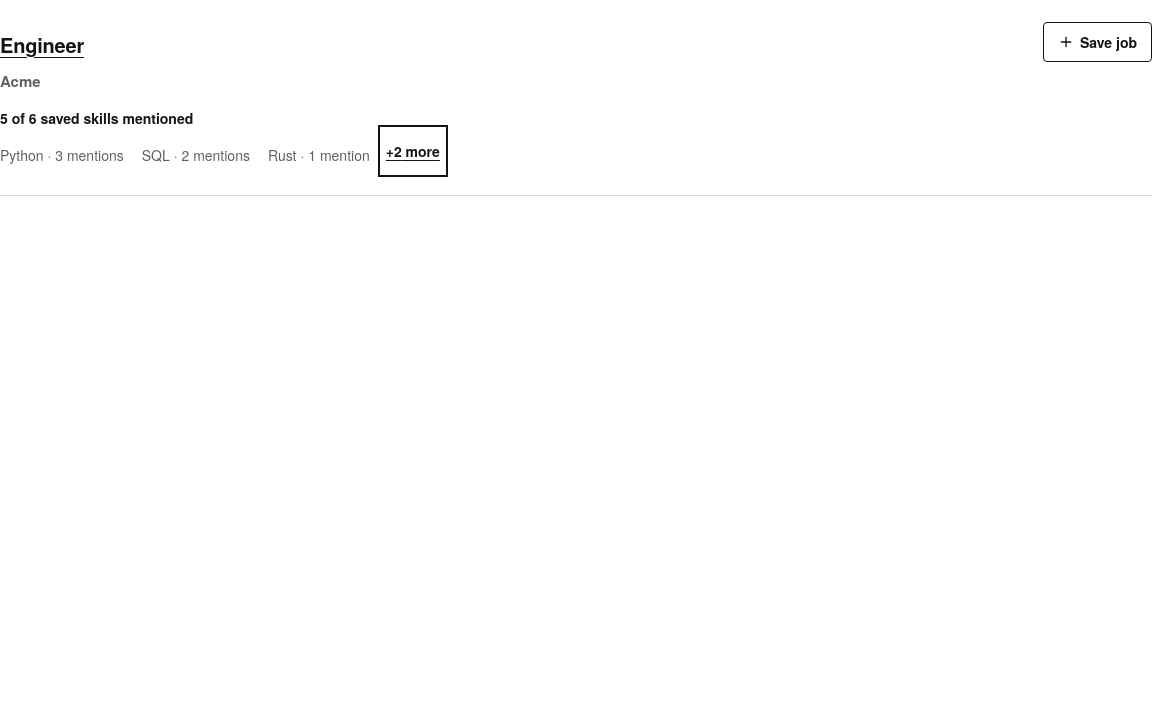
shows the top three and opens all saved skills through the keyboard-accessible overflow control
Expected: the text "5 of 6 saved skills mentioned" is shown, [0,108,193,128]
Expected: the list items read "Python · 3 mentions", "SQL · 2 mentions", "Rust · 1 mention", in this order, [0,144,124,166]; [142,144,250,166]; [268,144,370,166]
Press Enter
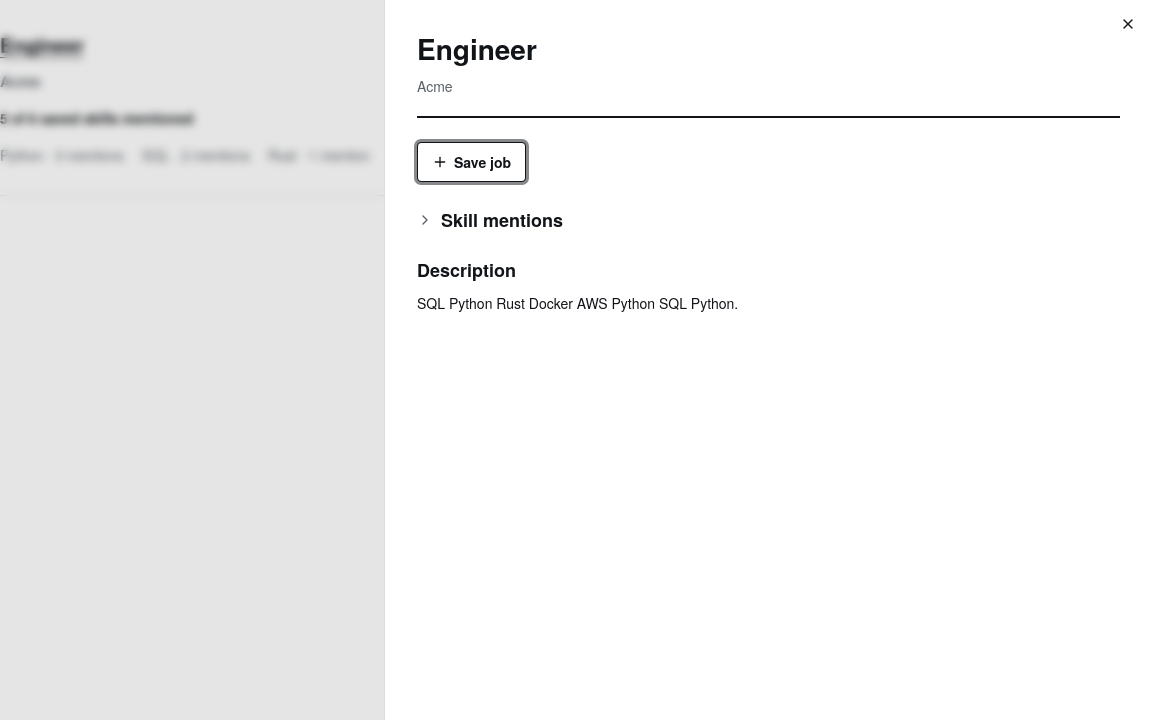
Click the button "Skill mentions": (502, 220) [417,206,1120,234]
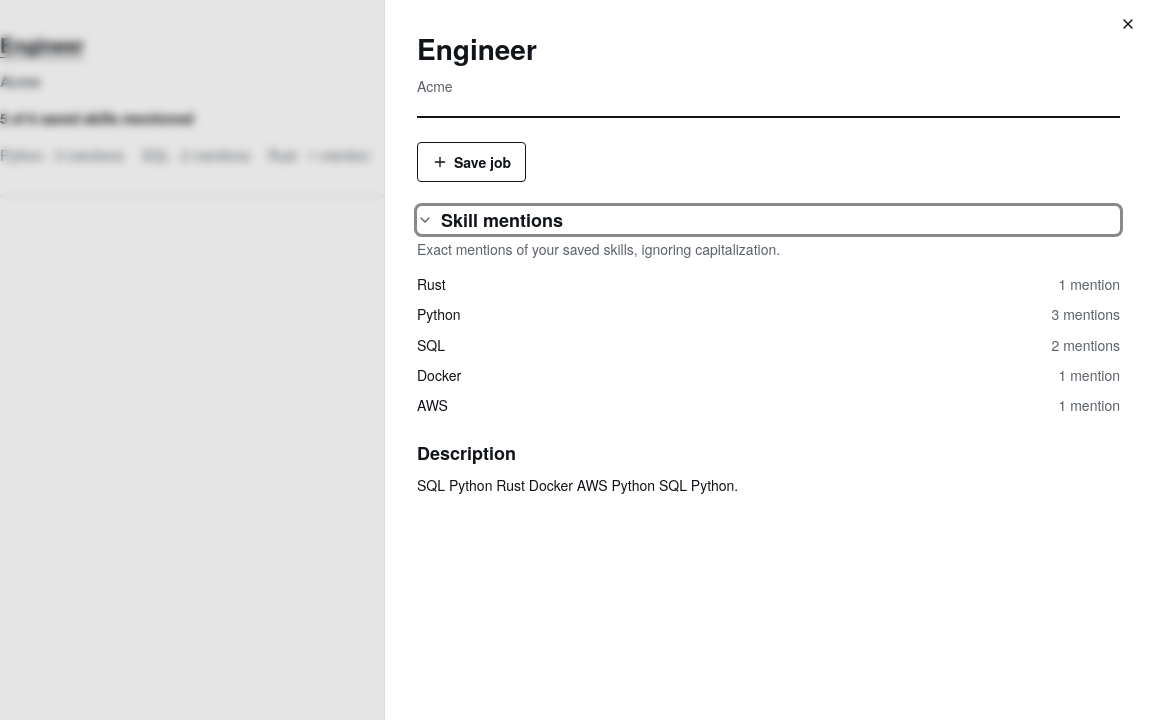
Result: the list items read "Rust1 mention", "Python3 mentions", "SQL2 mentions", "Docker1 mention", "AWS1 mention", in this order at [417,273,1120,295]; [417,303,1120,326]; [417,334,1120,356]; [417,364,1120,386]; [417,394,1120,417]
Press Escape
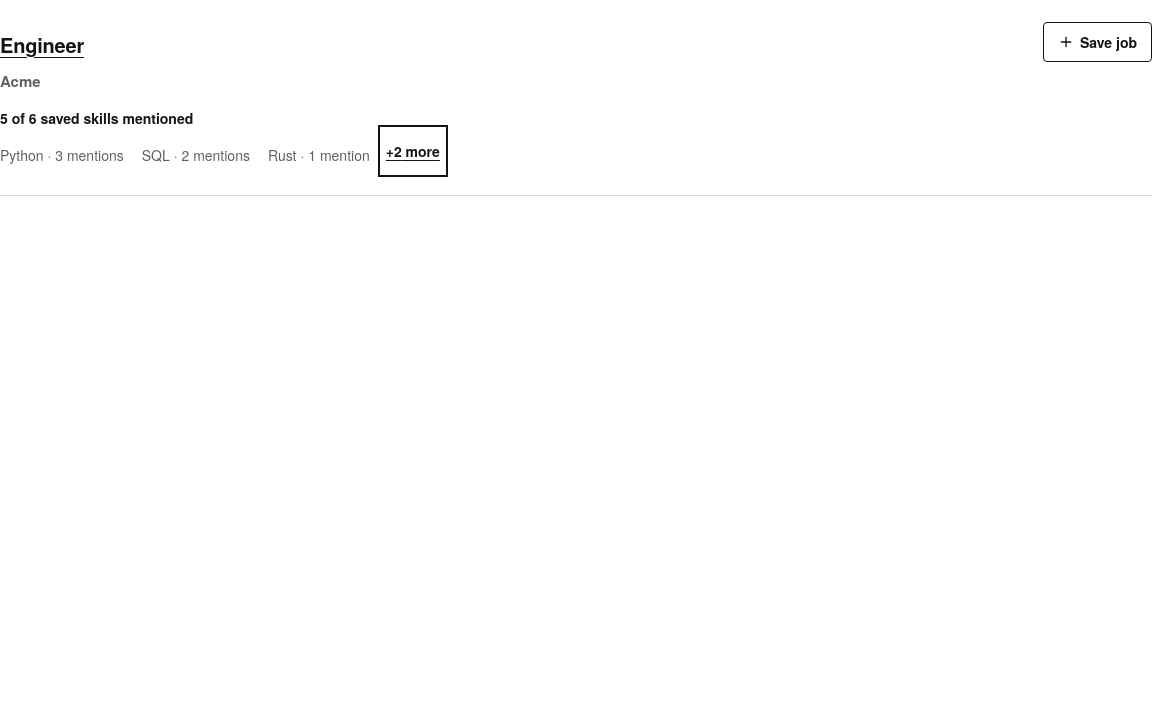
Result: the dialog is gone
